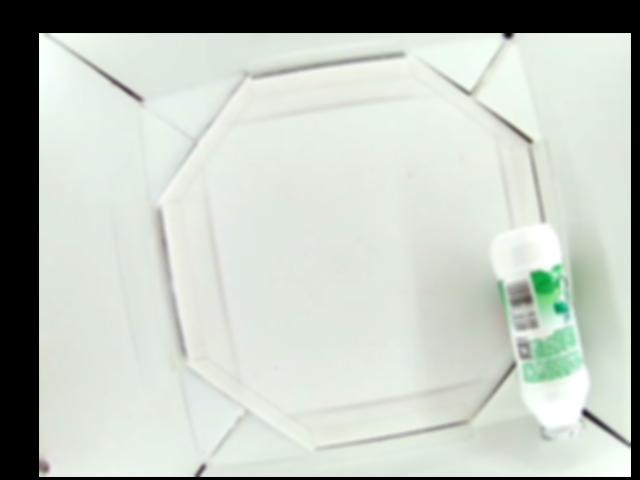Bottle: (490, 222, 593, 441)
